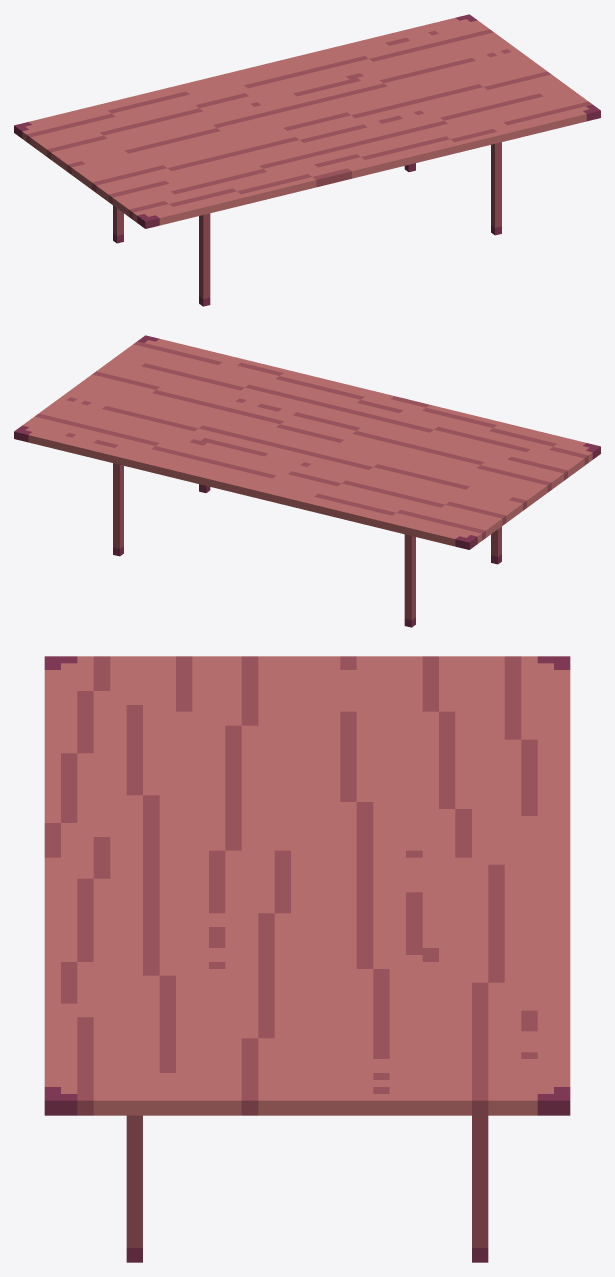
The model's file is table_2x3.obj.
3 views of the same model, one above another, from view 1: azimuth 30°, elevation 25°; view 2: azimuth 150°, elevation 25°; view 3: azimuth 270°, elevation 25° (orthographic). The views are drawn at different scales.
Parts seen in each view (by area): view 1: table_2x3; view 2: table_2x3; view 3: table_2x3.
Part boxes in pixels (x1,y1,x2,y2): table_2x3: [14, 14, 600, 306]; table_2x3: [14, 335, 600, 627]; table_2x3: [44, 656, 570, 1262].
Size of the model in its own units: 17.96 by 4.49 by 8.98.
1 material, 1 textured.
